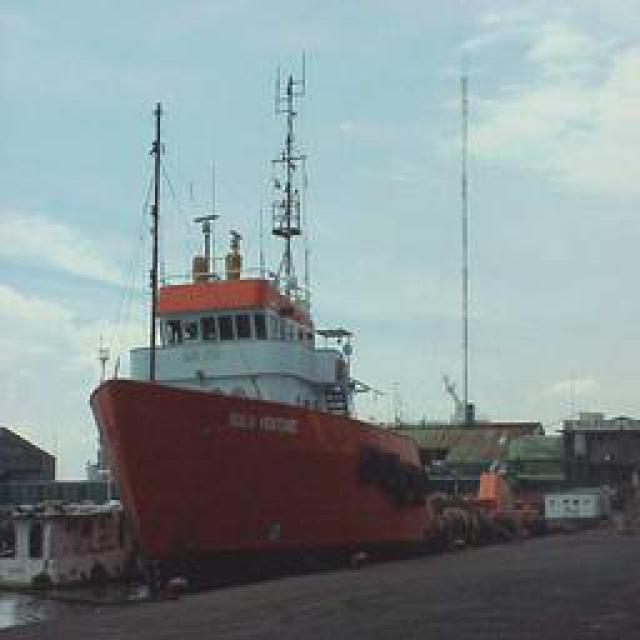Ship: (101, 36, 484, 584)
